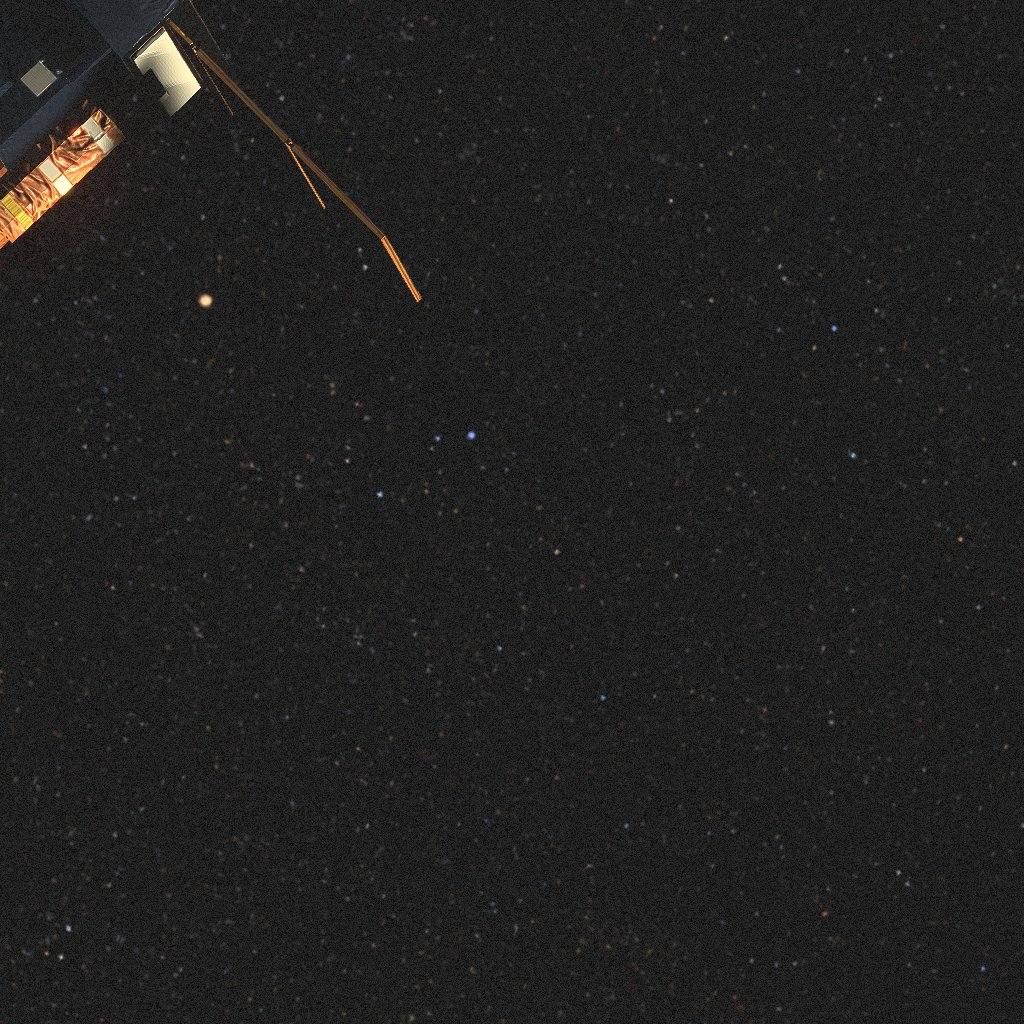soho: (0, 0, 422, 302)
